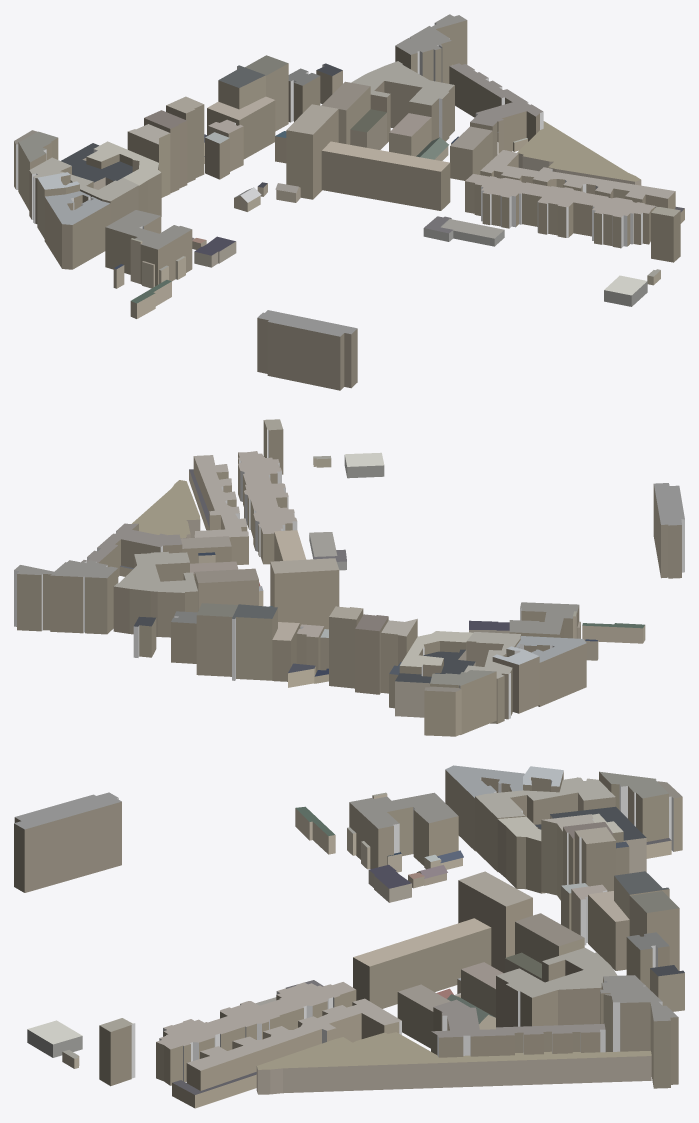
3 renders of one model, top to bottom at view 1: azimuth 30°, elevation 25°; view 2: azimuth 150°, elevation 25°; view 3: azimuth 270°, elevation 25°, orthographic. The views are drawn at different scales.
Parts seen in each view (by area): view 1: tuile; view 2: tuile; view 3: tuile.
Boxes of the visible parts, <box> form: tuile: <box>14,14,684,390</box>; tuile: <box>14,419,684,736</box>; tuile: <box>14,765,684,1108</box>.
Bounding box in the file's own units: 280 × 43.19 × 269.
